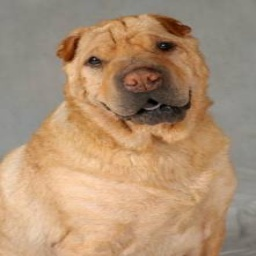dog: (0, 14, 239, 256)
